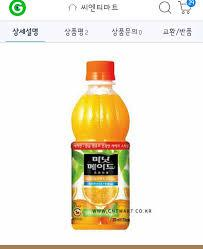minutemaid_org_orange: (68, 58, 129, 233)
